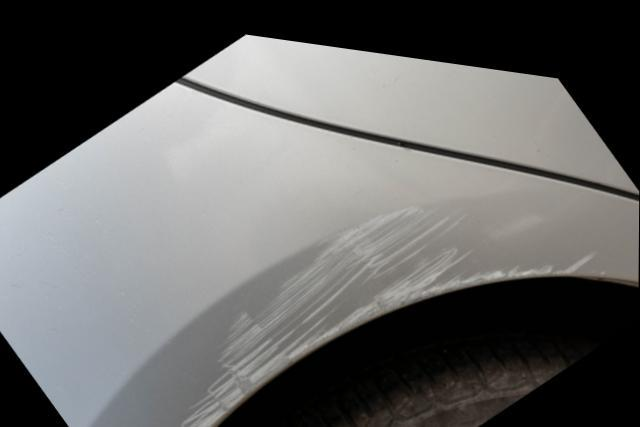rub: (181, 187, 605, 427)
